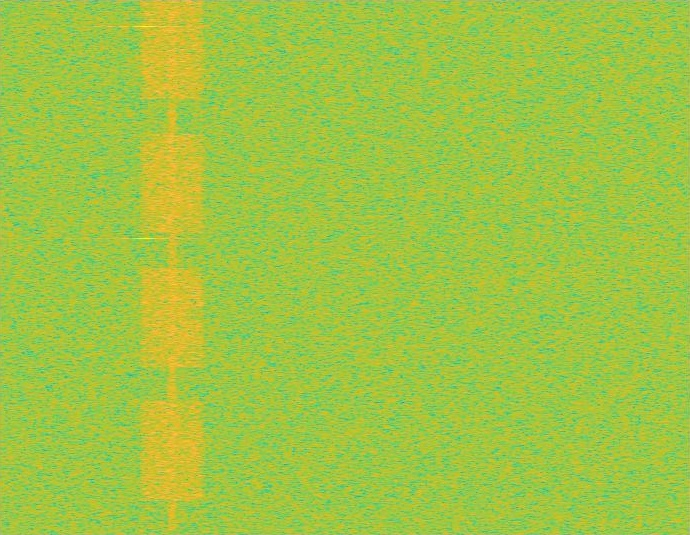5G: (138, 0, 207, 534)
DSSS: (168, 0, 177, 534)
Radar: (138, 0, 152, 534)
